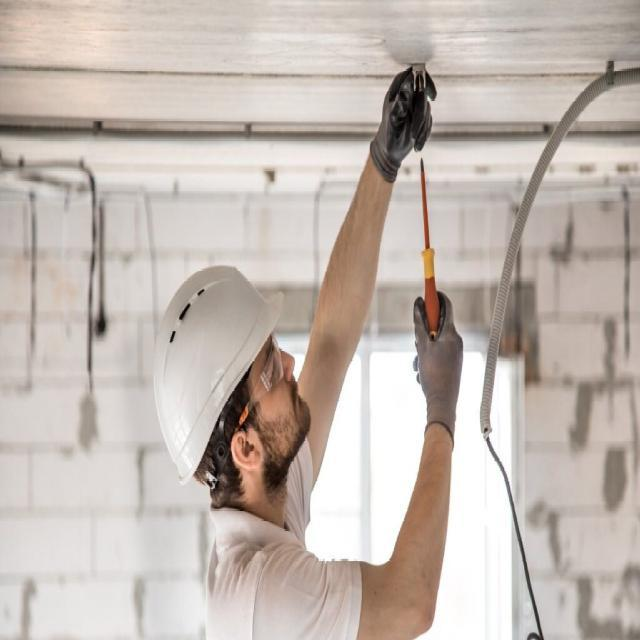screwdriver: (414, 152, 444, 352)
